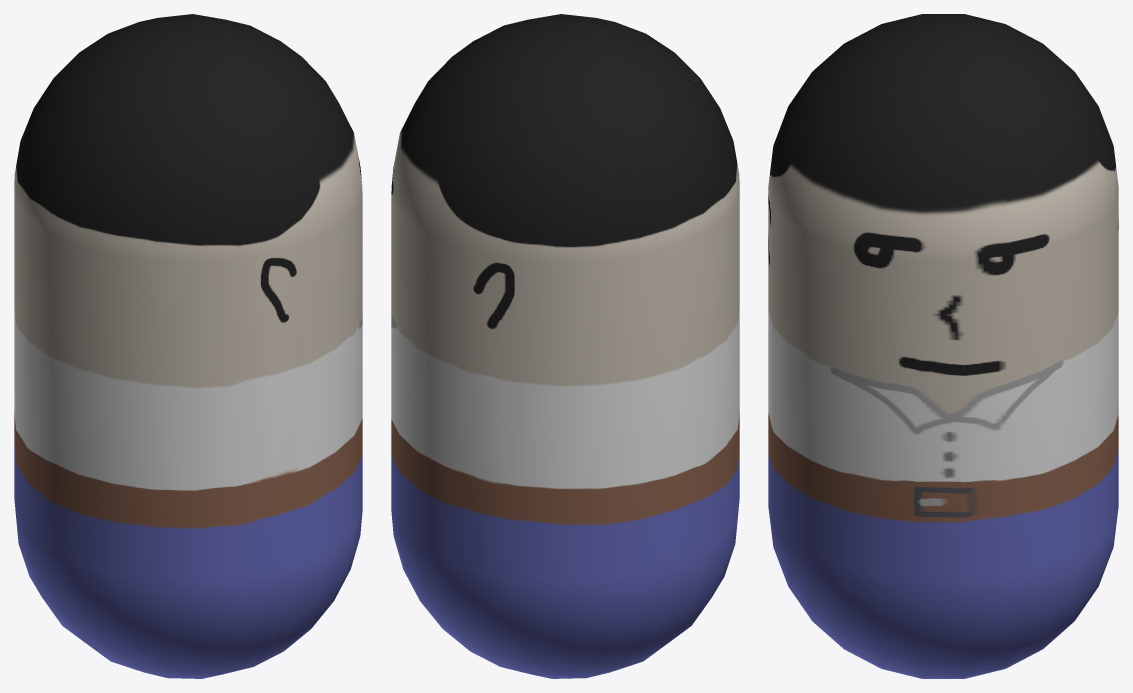
The picture shows the model from 3 angles, left to right: view 1: azimuth 30°, elevation 25°; view 2: azimuth 150°, elevation 25°; view 3: azimuth 270°, elevation 25°; orthographic projection.
Visible parts, largest first — view 1: Sphere; view 2: Sphere; view 3: Sphere.
Part boxes in pixels (x1,y1,x2,y2): Sphere: [14, 14, 362, 678]; Sphere: [391, 14, 739, 678]; Sphere: [768, 14, 1118, 678].
Bounding box in the file's own units: 199 × 398 × 200.
1 material, 1 textured.
